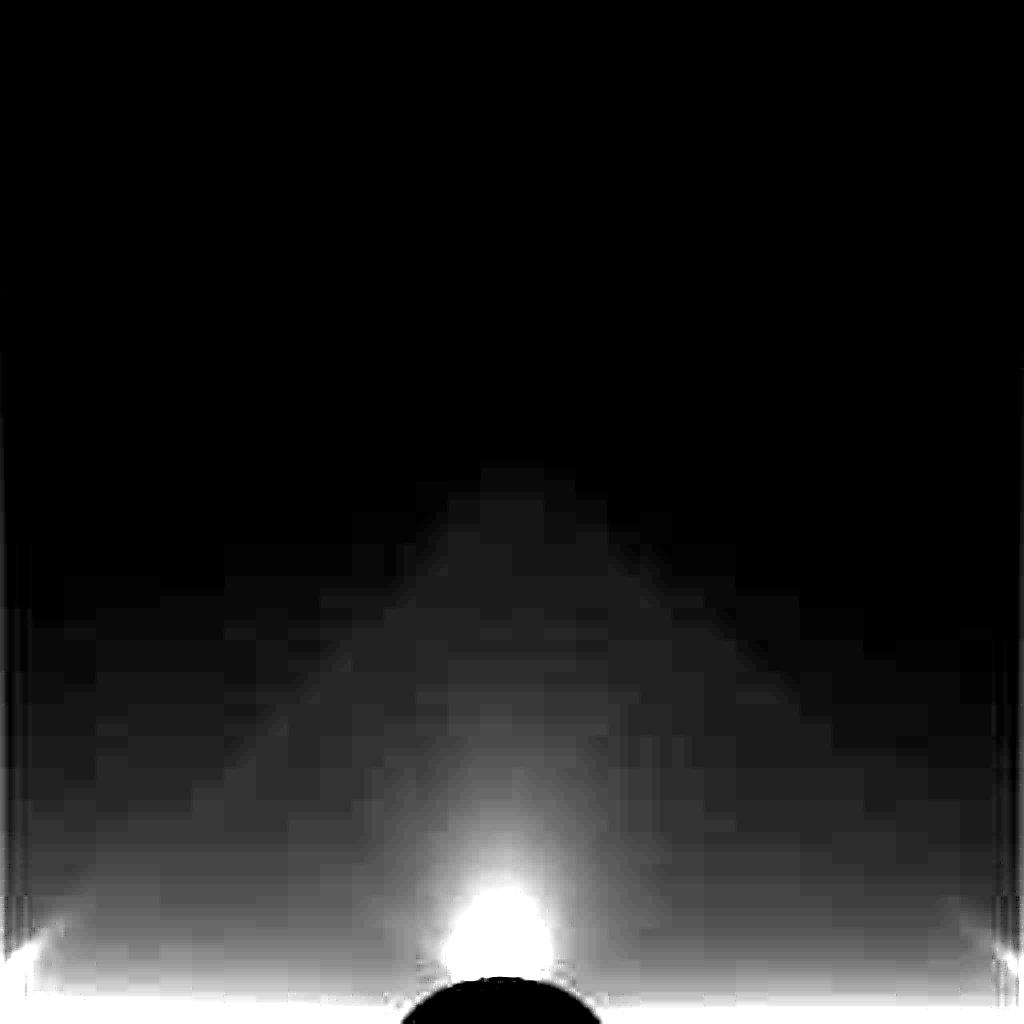plumes: (436, 889, 554, 982)
